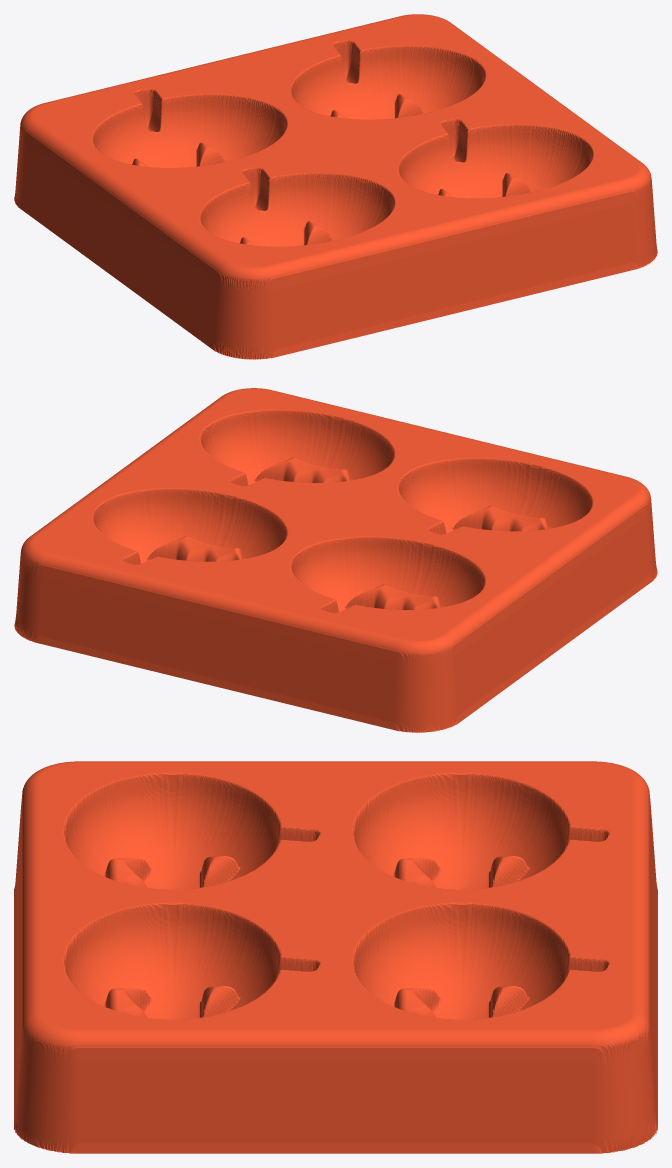
File: mold.glb
3 renders of one model, top to bottom at view 1: azimuth 30°, elevation 25°; view 2: azimuth 150°, elevation 25°; view 3: azimuth 270°, elevation 25°, orthographic. The views are drawn at different scales.
Parts seen in each view (by area): view 1: geometry_0; view 2: geometry_0; view 3: geometry_0.
Boxes of the visible parts, left/top/right/bottom form: geometry_0: left=14, top=14, right=657, bottom=359; geometry_0: left=14, top=388, right=657, bottom=732; geometry_0: left=14, top=761, right=657, bottom=1153.
Size of the model in its own units: 0.0952 by 0.0175 by 0.09.
